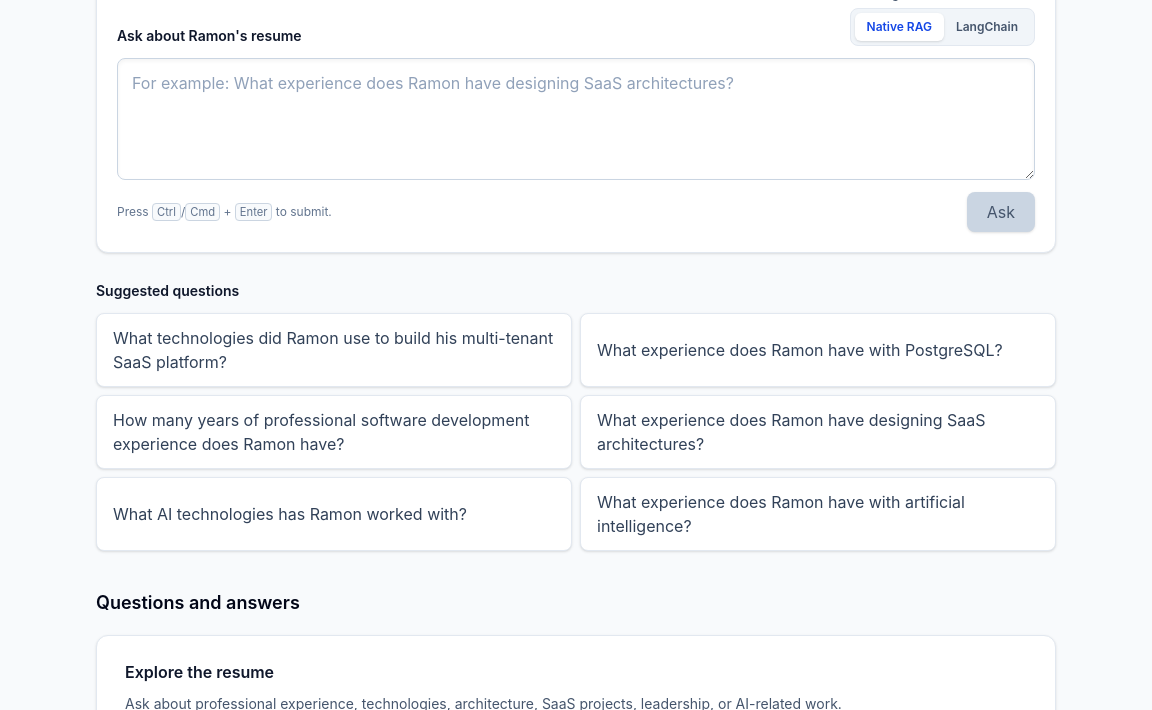
it: AI Resume application › submits a suggested question immediately
(page scrolled)
Click the button "What experience does Ramon have with PostgreSQL?" at x=818, y=350, box [580,313,1056,387]
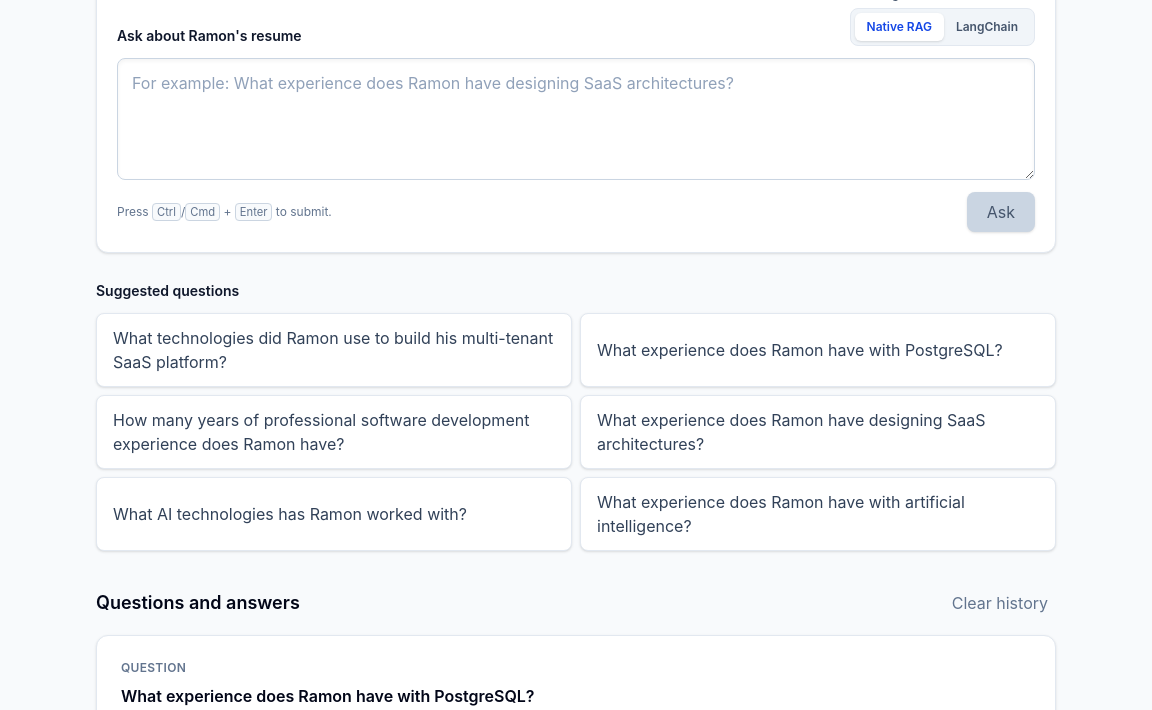
Expected: the heading "What experience does Ramon have with PostgreSQL?" is shown, [121,686,534,706]
